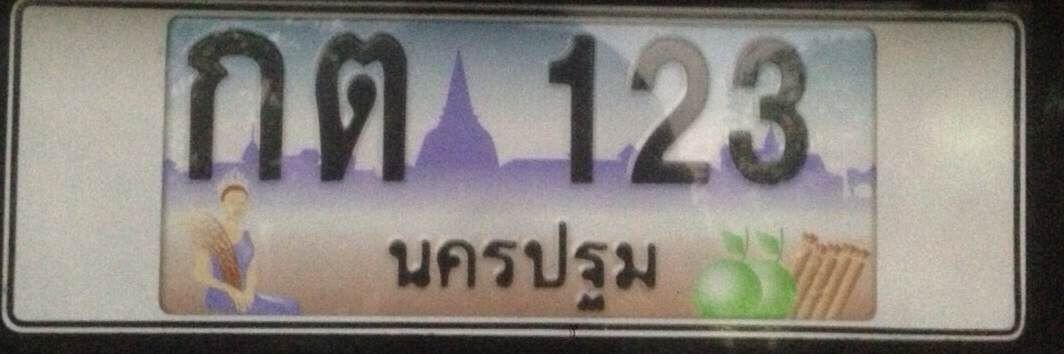Non-Bangkok: (378, 206, 687, 335)
